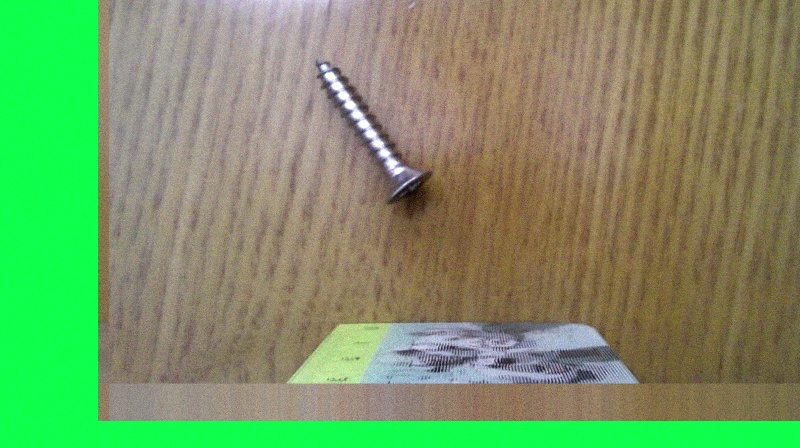S001: (310, 54, 435, 207)
